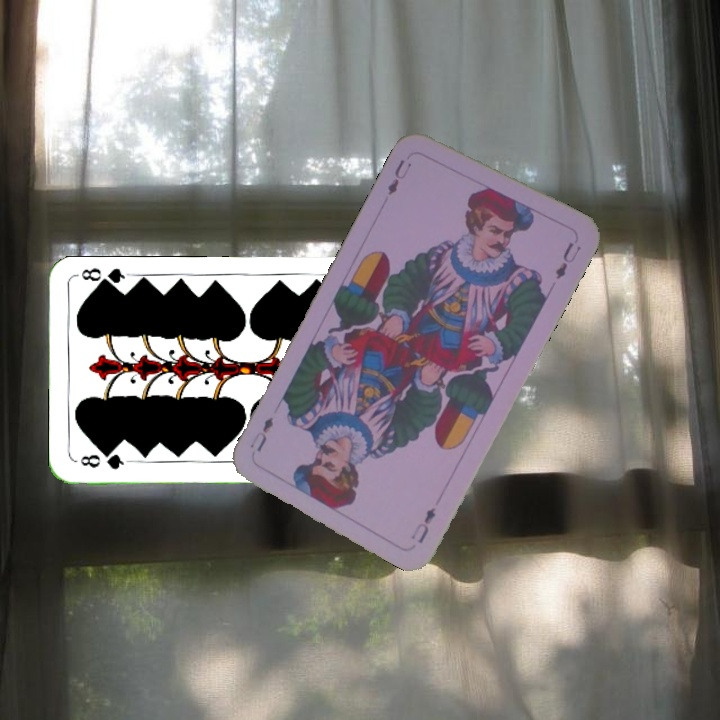EU: (383, 155, 415, 198), (406, 503, 438, 546)
G8: (76, 449, 132, 471)
